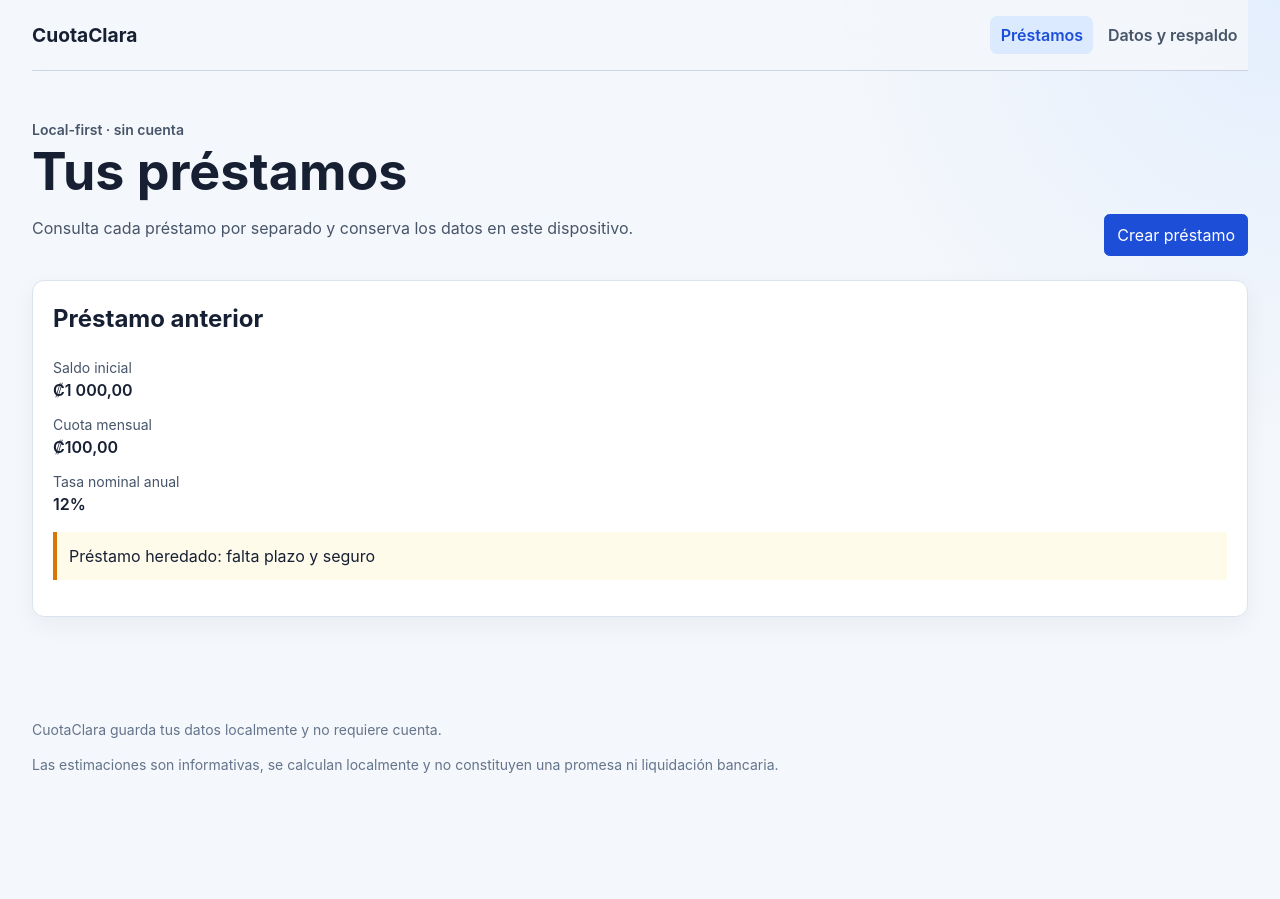
Scenario: App › identifica préstamos sin contrato como heredados
expect the heading "Préstamo anterior" is shown: met, box [53,304,263,333]
expect the text "Préstamo heredado: falta plazo y seguro" is shown: met, box [53,532,1227,580]
What coordinates should you click on to do the following:
click the button with aria-label "Abrir préstamo Préstamo anterior"
I would click on:
 (640, 597)
Its box is [32,280,1248,617].
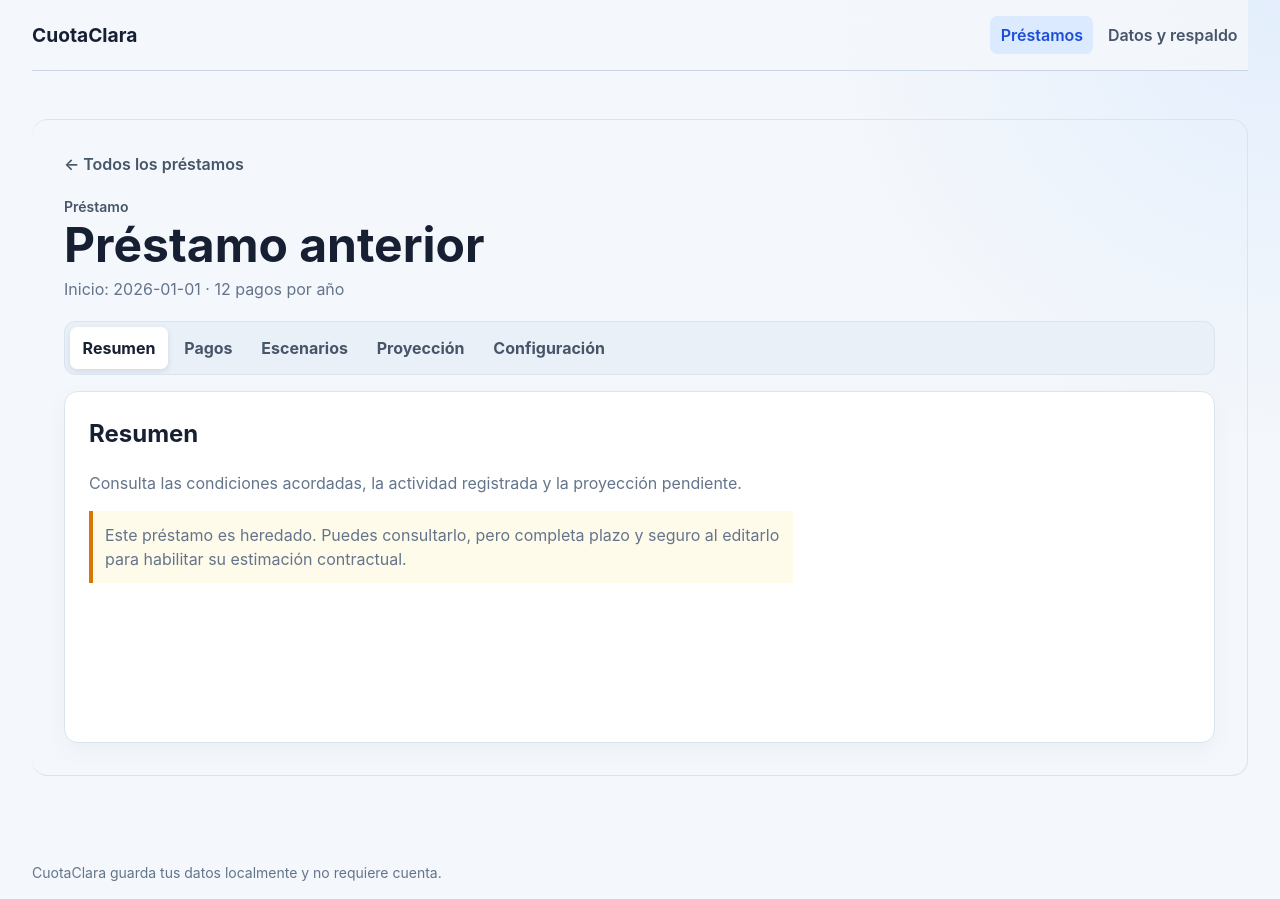
expect the text "Este préstamo es heredado" is shown: met, box [105,525,779,569]
